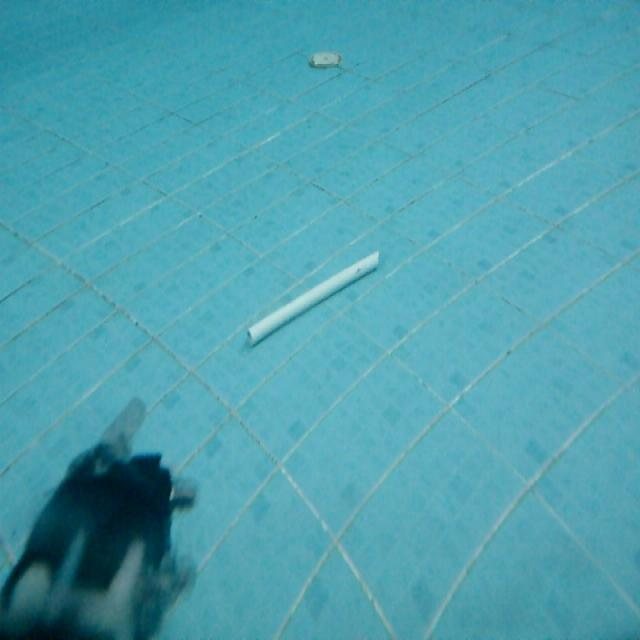Cube: (243, 245, 381, 348)
